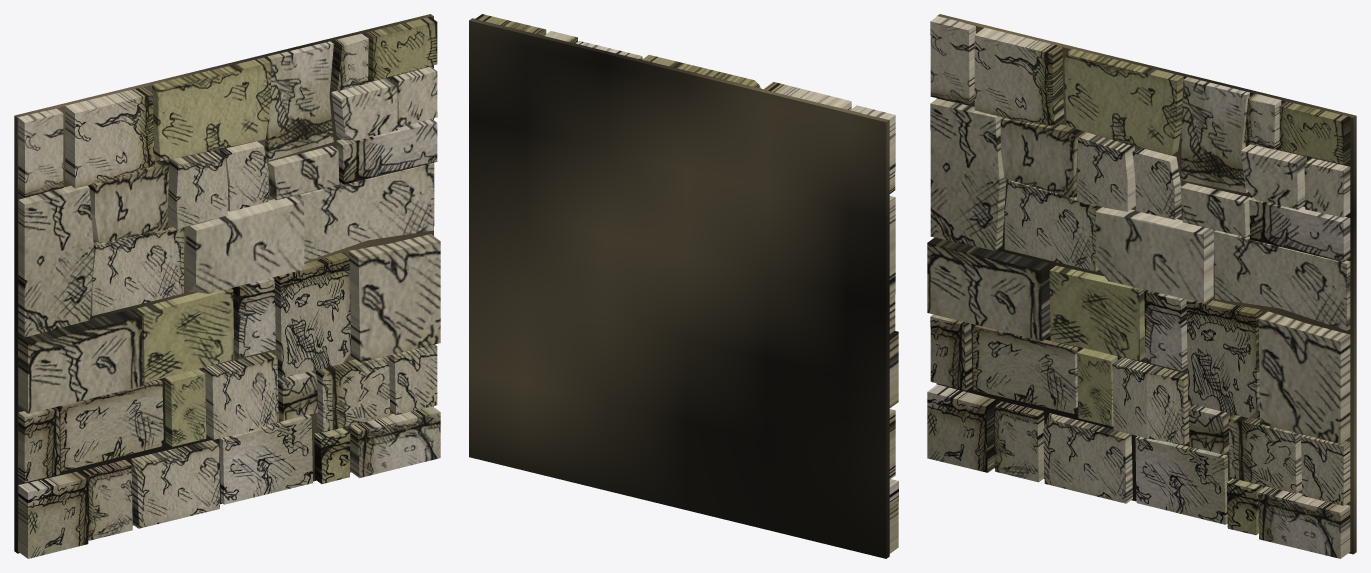
File: stone_wall.glb
3 renders of one model, left to right at view 1: azimuth 30°, elevation 25°; view 2: azimuth 150°, elevation 25°; view 3: azimuth 330°, elevation 25°, orthographic.
Parts seen in each view (by area): view 1: Stone Wall; view 2: Stone Wall; view 3: Stone Wall.
Boxes of the visible parts, box(x1,y1,x2,y2) form: Stone Wall: box(14, 14, 440, 558); Stone Wall: box(469, 14, 898, 558); Stone Wall: box(927, 14, 1356, 558).
Bounding box in the file's own units: 2 × 2.01 × 0.1103.
Materials: 1 (1 with a texture image).
